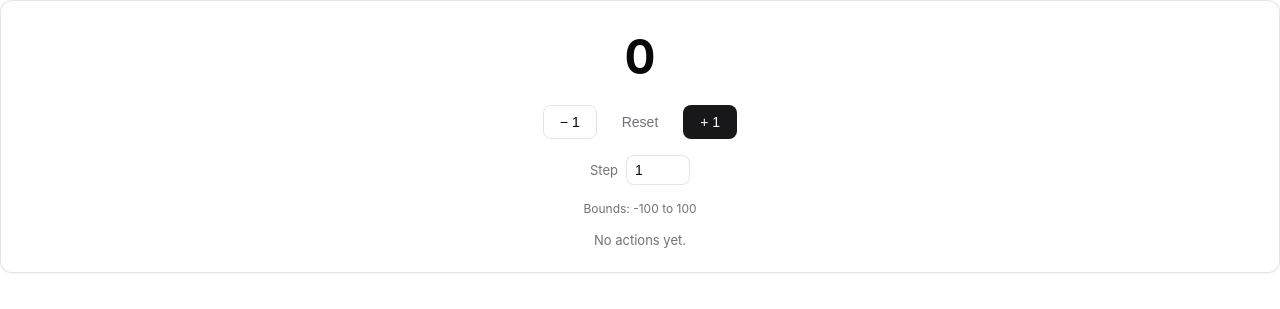
Scenario: changing the step updates increment amount
The width and height of the screenshot is (1280, 309).
Replace the text in the number field labelled "Step" with "5": [658, 170] box x1=626 y1=155 x2=690 y2=185
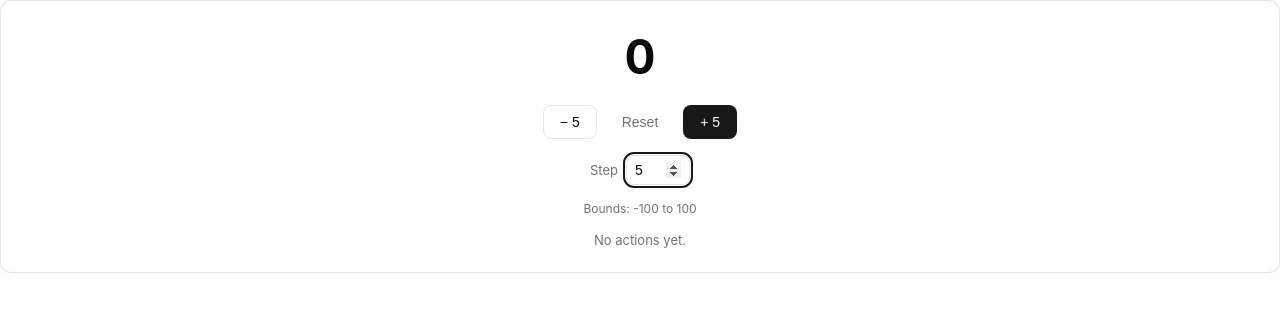
Click the button "+ 5": [710, 122] box x1=683 y1=105 x2=737 y2=139
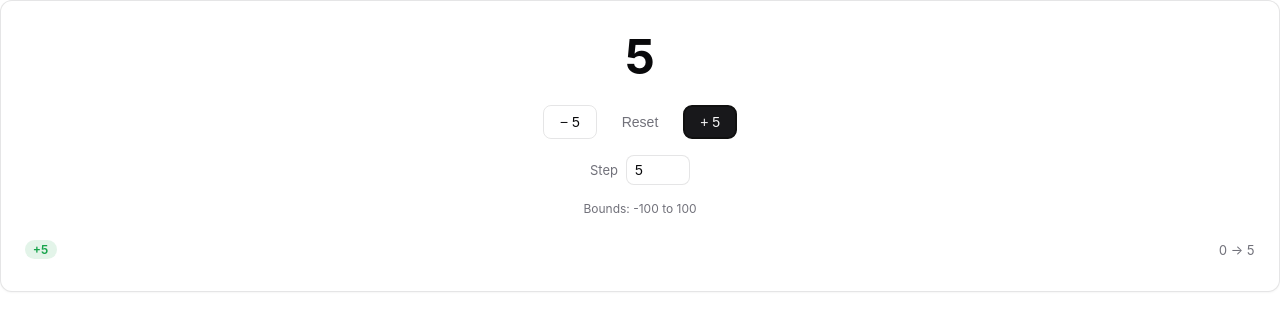
Now the text with test id "counter-value" reads "5", box x1=624 y1=27 x2=656 y2=86
